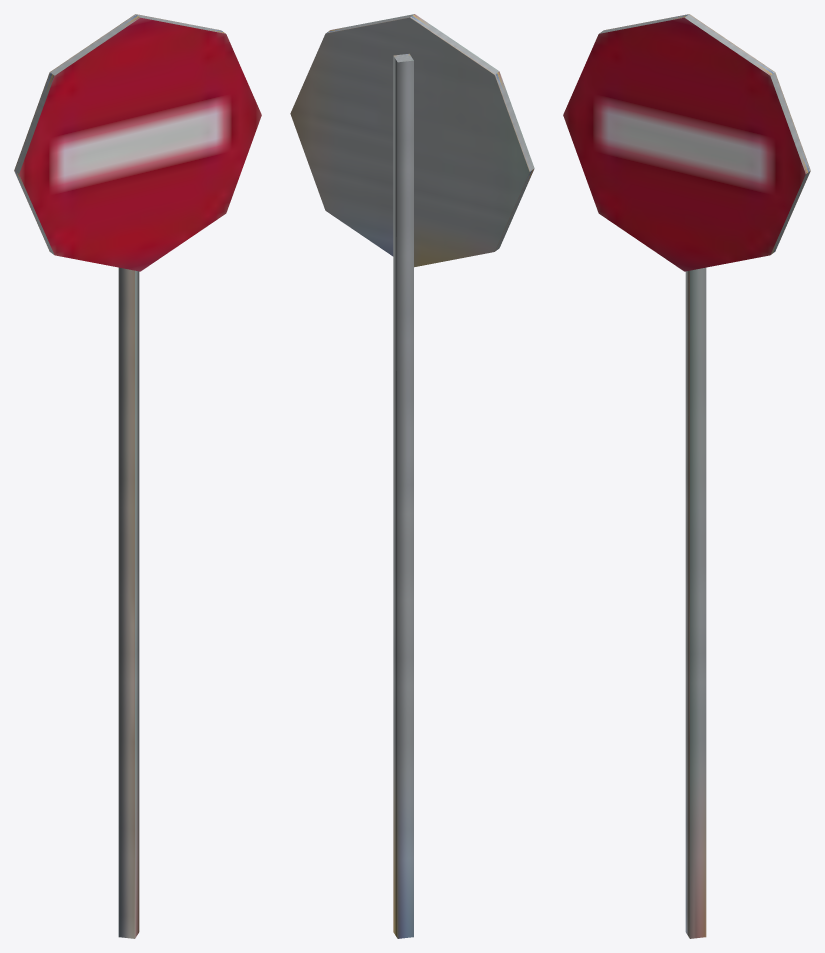
File: panneau_sens_interdit_lod2.glb
3 views of the same model, side by side, from view 1: azimuth 30°, elevation 25°; view 2: azimuth 150°, elevation 25°; view 3: azimuth 330°, elevation 25° (orthographic).
Visible parts, largest first — view 1: panneau_sens_interdit; view 2: panneau_sens_interdit; view 3: panneau_sens_interdit.
Boxes of the visible parts, box(x1,y1,x2,y2) form: panneau_sens_interdit: box(14, 14, 261, 938); panneau_sens_interdit: box(290, 14, 534, 938); panneau_sens_interdit: box(563, 14, 810, 938).
Size of the model in its own units: 0.7002 by 2.55 by 0.0875.
1 material, 1 textured.
